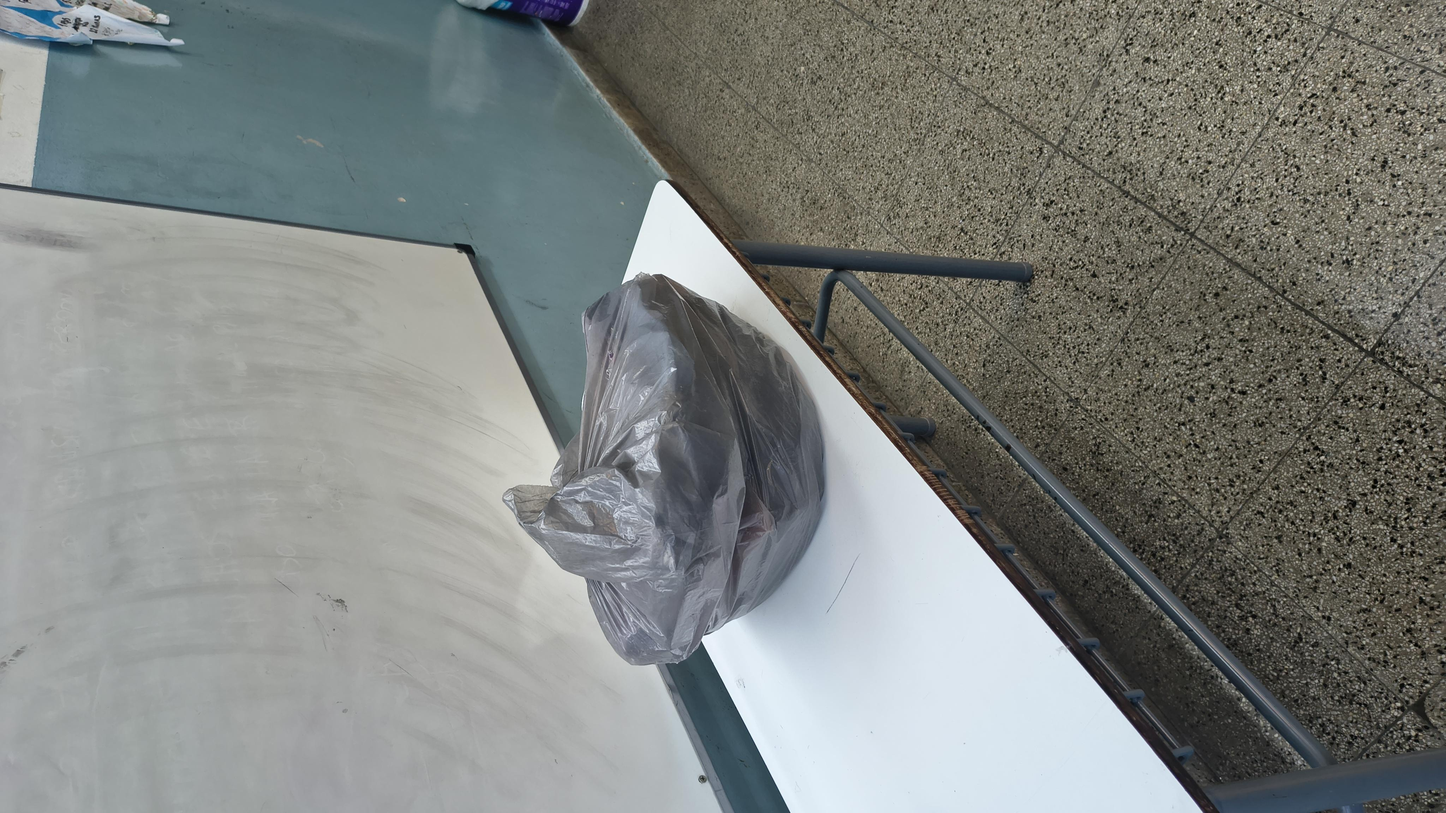Garbage: (201, 262, 1017, 482)
